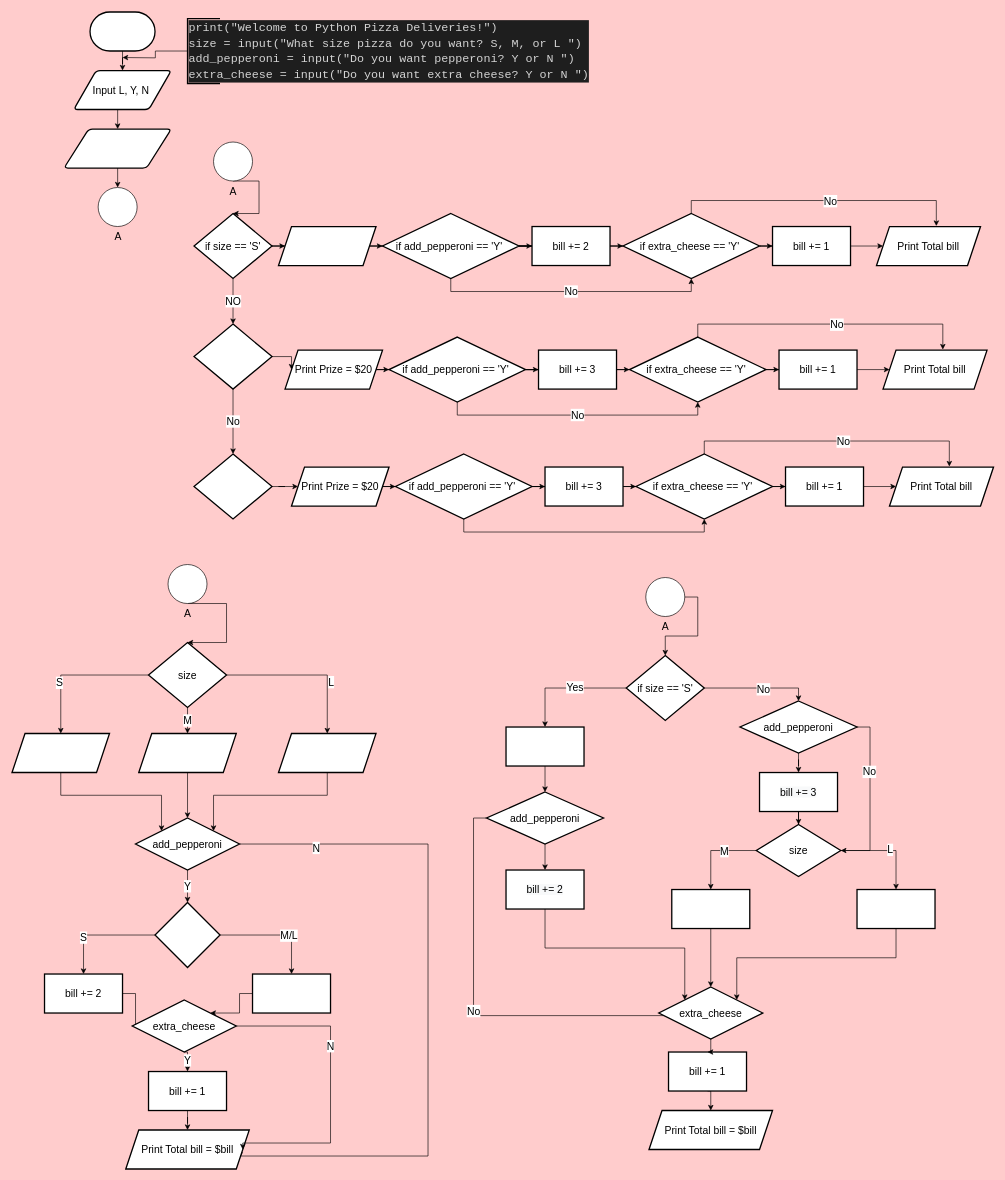
This 1005x1180 diagram has some shape labels left out. The shapes that lost their labels are listed below. From the top down, each one's centre as x and y in pixels, then its label:
the point at 122,31: Start
the point at 117,148: bill = 0
the point at 327,246: Print Prize = $15
the point at 232,356: elif size == 'M'
the point at 232,486: elif size == 'L'
the point at 60,753: Print Prize = $15 Set bill
the point at 187,753: Print Prize = $20 Set bill
the point at 327,753: Print Prize = $25 Set bill
the point at 544,746: bill += 15
the point at 710,909: bill += 20
the point at 895,909: bill += 25
the point at 187,935: If S or M/L
the point at 291,993: bill +=3
